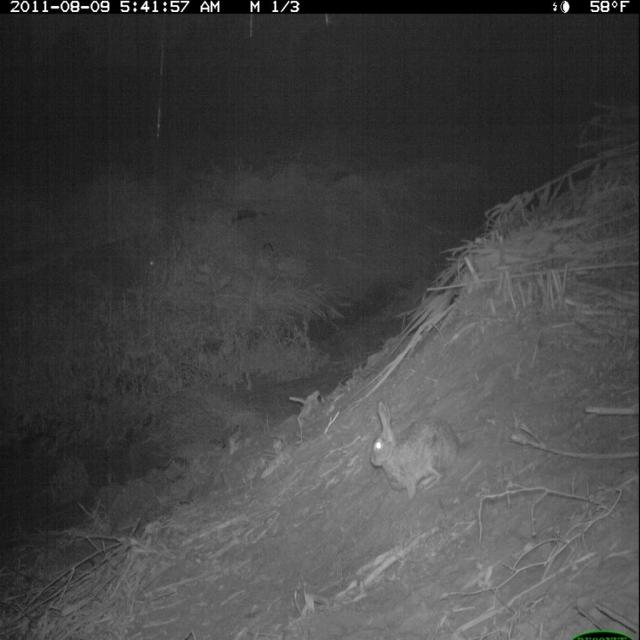rabbit: (368, 397, 475, 499)
